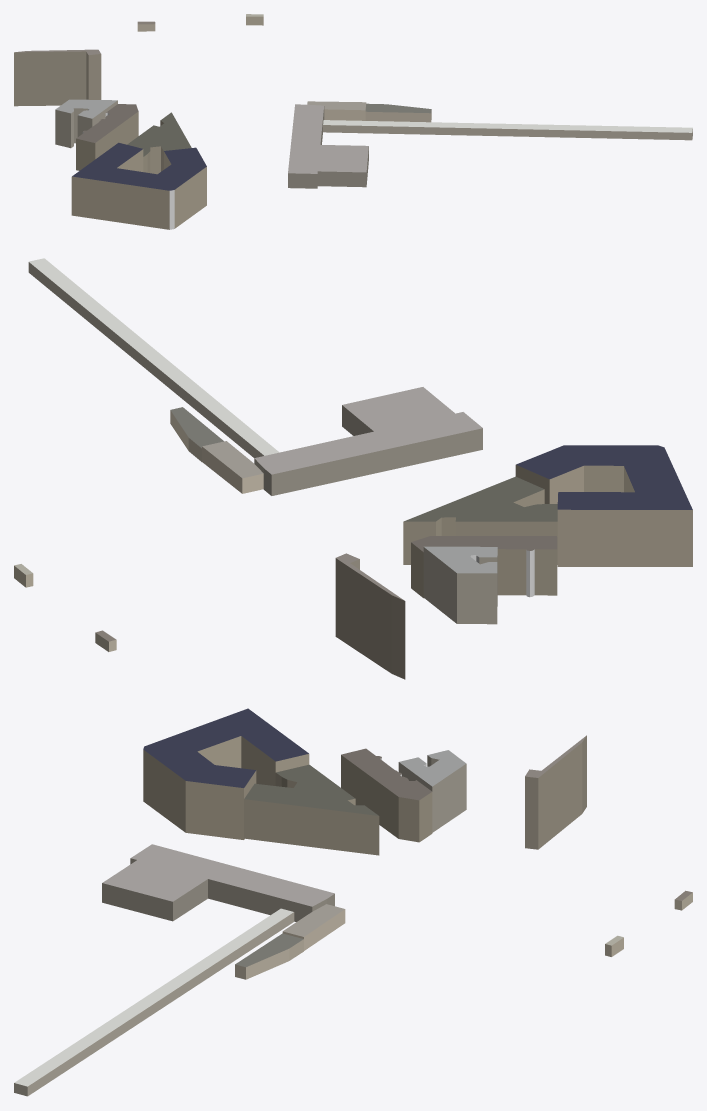
The picture shows the model from 3 angles, top to bottom: view 1: azimuth 30°, elevation 25°; view 2: azimuth 150°, elevation 25°; view 3: azimuth 270°, elevation 25°; orthographic projection. The views are drawn at different scales.
Parts seen in each view (by area): view 1: tuile; view 2: tuile; view 3: tuile.
Part boxes in pixels (x1=…): tuile: x1=14, y1=14, x2=692, y2=229; tuile: x1=14, y1=258, x2=692, y2=679; tuile: x1=14, y1=708, x2=692, y2=1096.
Size of the model in its own units: 344 by 32.92 by 283.
